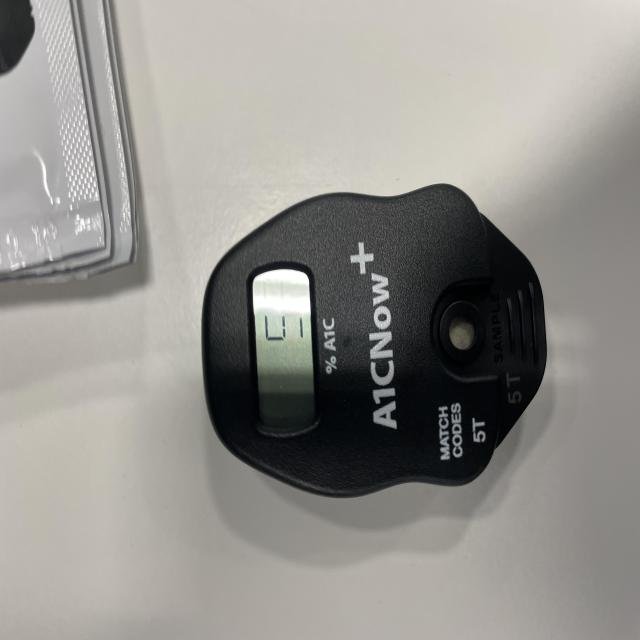hba1c: (199, 183, 549, 501)
